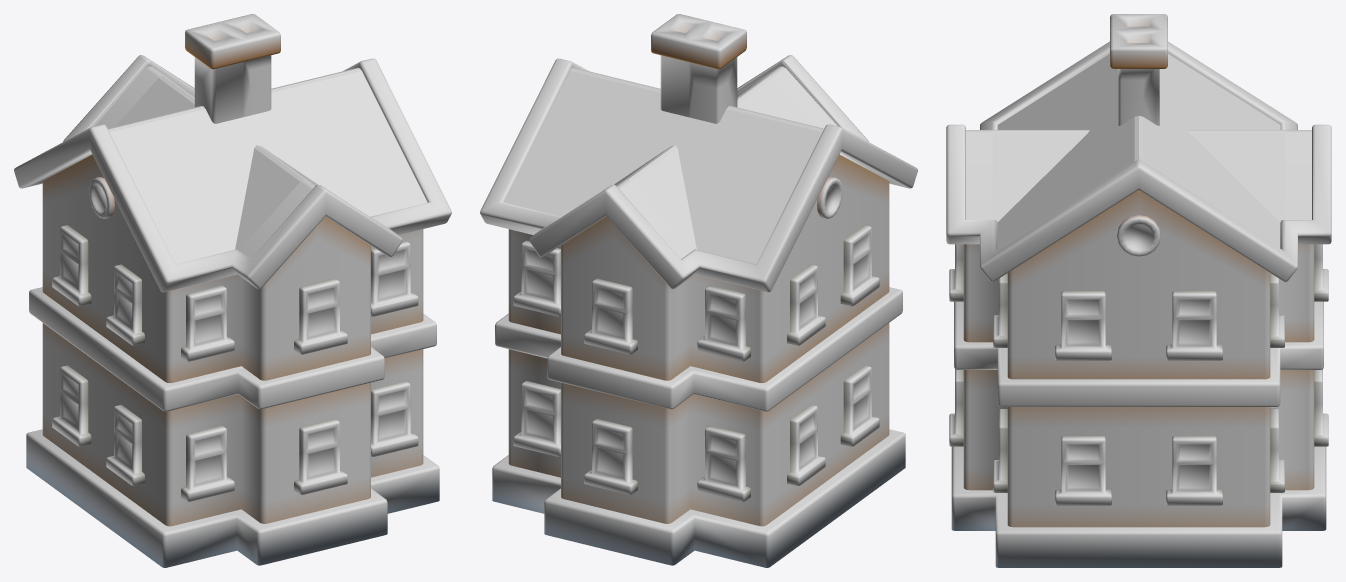
File: Building_045.fbx
The picture shows the model from 3 angles, left to right: view 1: azimuth 30°, elevation 25°; view 2: azimuth 150°, elevation 25°; view 3: azimuth 270°, elevation 25°; orthographic projection. The views are drawn at different scales.
Visible parts, largest first — view 1: Building_045; view 2: Building_045; view 3: Building_045.
Part boxes in pixels (bbox=[...]): Building_045: bbox=[14, 14, 451, 567]; Building_045: bbox=[480, 14, 917, 567]; Building_045: bbox=[946, 14, 1331, 567].
Bounding box in the file's own units: 780 × 880 × 1178.
